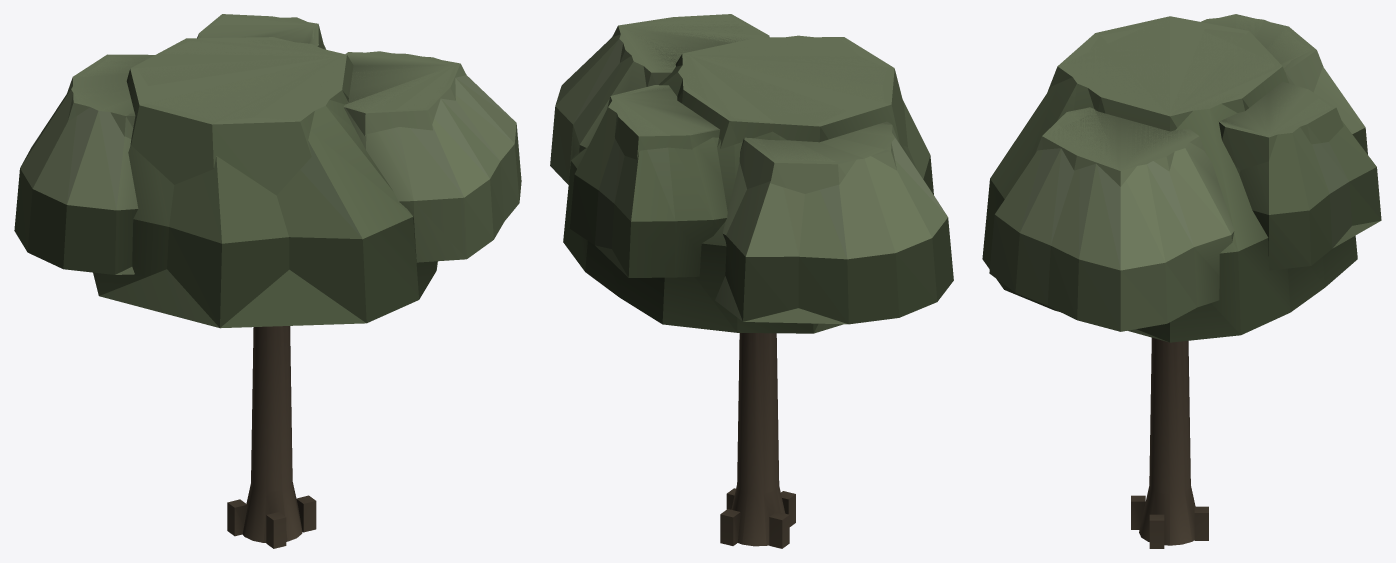
The model's file is neutral_tree_broadleaf.glb.
3 views of the same model, side by side, from view 1: azimuth 30°, elevation 25°; view 2: azimuth 150°, elevation 25°; view 3: azimuth 270°, elevation 25° (orthographic).
Parts seen in each view (by area): view 1: body (×3); view 2: body (×3); view 3: body (×3).
Boxes of the visible parts, x1,y1,x2,y2 form: body (×3): [14, 14, 521, 548]; body (×3): [550, 14, 953, 548]; body (×3): [982, 14, 1381, 548].
Bounding box in the file's own units: 4.79 × 4.8 × 3.84.
